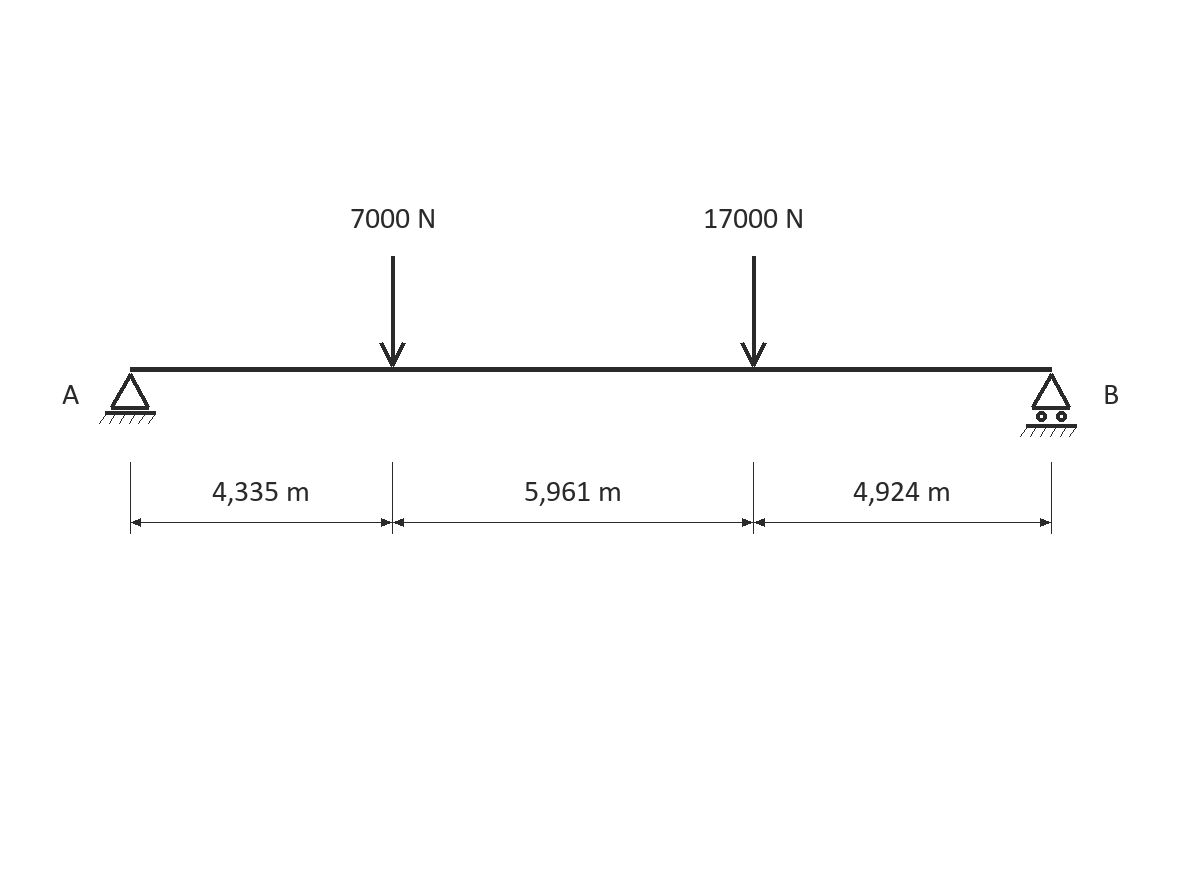pin_support: (99, 373, 156, 424)
point_load: (379, 256, 406, 367), (740, 256, 767, 367)
roller_support: (1020, 373, 1077, 437)
